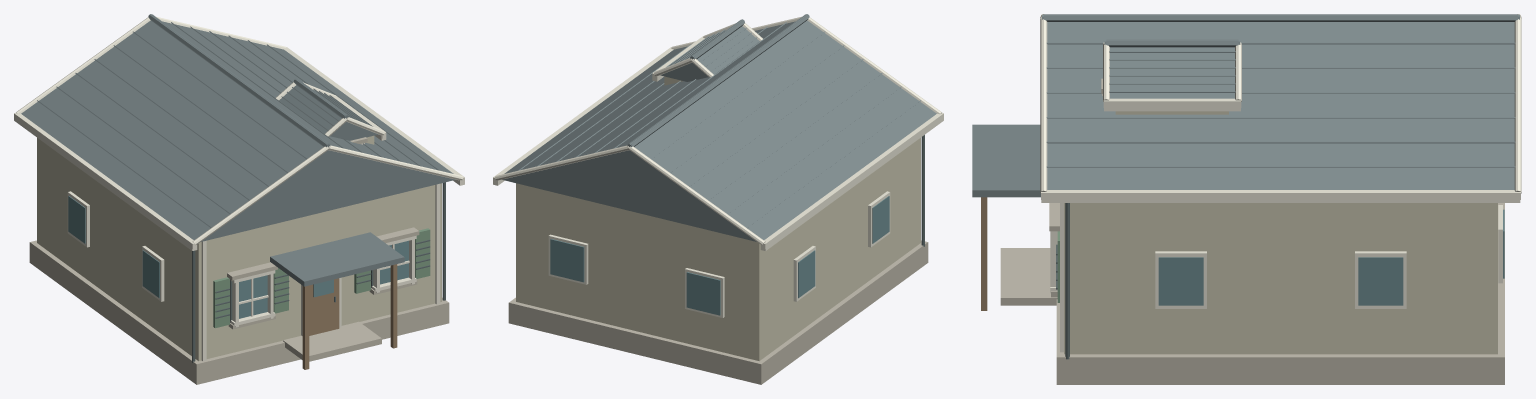
3 renders of one model, left to right at view 1: azimuth 30°, elevation 25°; view 2: azimuth 150°, elevation 25°; view 3: azimuth 270°, elevation 25°, orthographic. The views are drawn at different scales.
Bounding box in the file's own units: 8.96 × 6.77 × 11.64.
